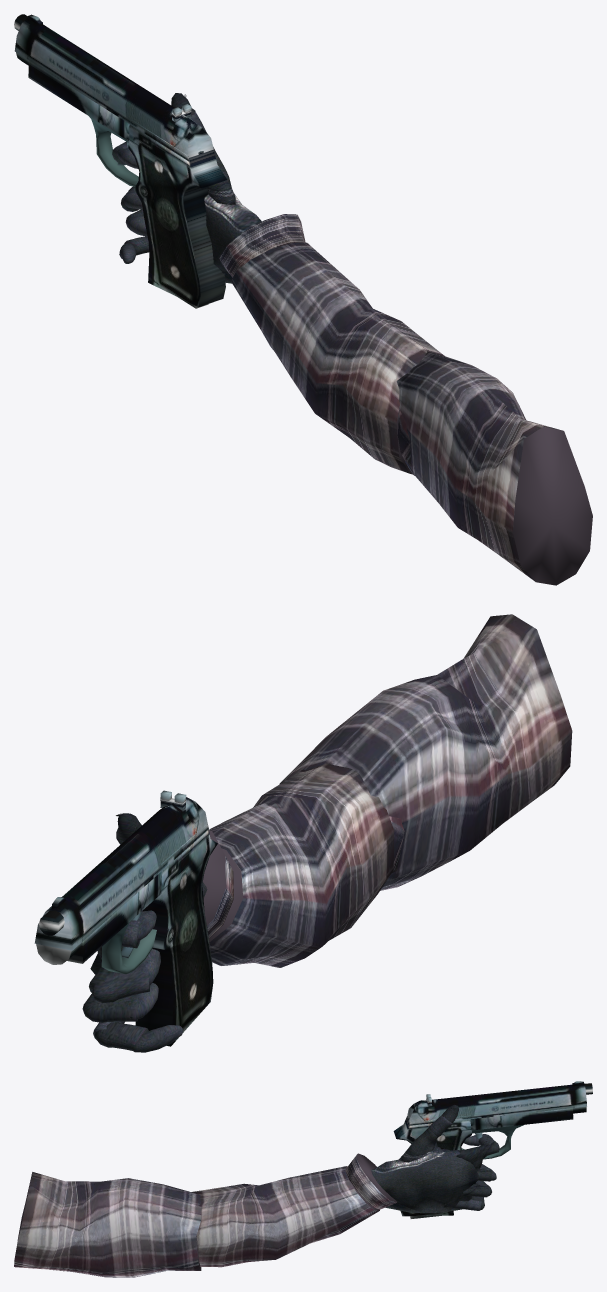
Rendered from m9_view.fbx.
The picture shows the model from 3 angles, top to bottom: view 1: azimuth 30°, elevation 25°; view 2: azimuth 150°, elevation 25°; view 3: azimuth 270°, elevation 25°; orthographic projection. The views are drawn at different scales.
Visible parts, largest first — view 1: rupperarm, rforearm, M9Grip, M9Slide, rhand, M9Body, M9TriggerGuard; view 2: rupperarm, rforearm, M9Grip, M9Slide, M9Body, M9TriggerGuard, rmfingermiddle, rifingermiddle, rpinkymiddle, rpinkyfront; view 3: rupperarm, rforearm, rhand, M9Slide, M9Grip, M9Body, rthumbback, rpfingerback, M9TriggerGuard, rthumbmiddle.
Part boxes in pixels (left/top/right/bottom): rupperarm: left=396, top=351, right=592, bottom=585; rforearm: left=219, top=214, right=444, bottom=474; M9Grip: left=128, top=118, right=226, bottom=307; M9Slide: left=14, top=18, right=214, bottom=161; rhand: left=204, top=192, right=261, bottom=283; M9Body: left=16, top=52, right=129, bottom=140; M9TriggerGuard: left=89, top=116, right=138, bottom=186; rupperarm: left=279, top=614, right=572, bottom=890; rforearm: left=203, top=763, right=394, bottom=967; M9Grip: left=135, top=824, right=217, bottom=1046; M9Slide: left=34, top=797, right=208, bottom=950; M9Body: left=36, top=871, right=161, bottom=964; M9TriggerGuard: left=101, top=917, right=156, bottom=974; rmfingermiddle: left=92, top=966, right=149, bottom=1003; rifingermiddle: left=83, top=995, right=138, bottom=1022; rpinkymiddle: left=94, top=1022, right=148, bottom=1052; rpinkyfront: left=131, top=1025, right=183, bottom=1052; rupperarm: left=14, top=1172, right=201, bottom=1277; rforearm: left=191, top=1153, right=397, bottom=1267; rhand: left=371, top=1152, right=479, bottom=1213; M9Slide: left=407, top=1083, right=586, bottom=1125; M9Grip: left=393, top=1115, right=471, bottom=1216; M9Body: left=470, top=1106, right=586, bottom=1130; rthumbback: left=398, top=1127, right=460, bottom=1162; rpfingerback: left=456, top=1141, right=498, bottom=1171; M9TriggerGuard: left=461, top=1124, right=524, bottom=1159; rthumbmiddle: left=429, top=1115, right=453, bottom=1136.
Size of the model in its own units: 5.39 by 9.69 by 29.8.
